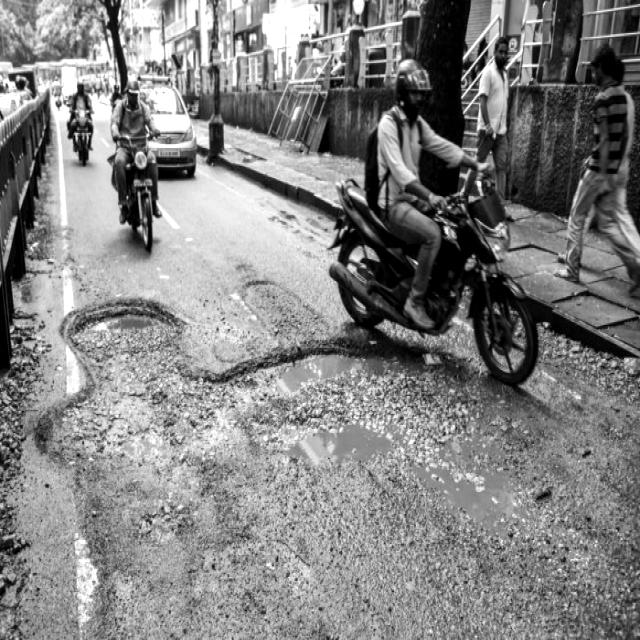pathole: (29, 295, 562, 640)
